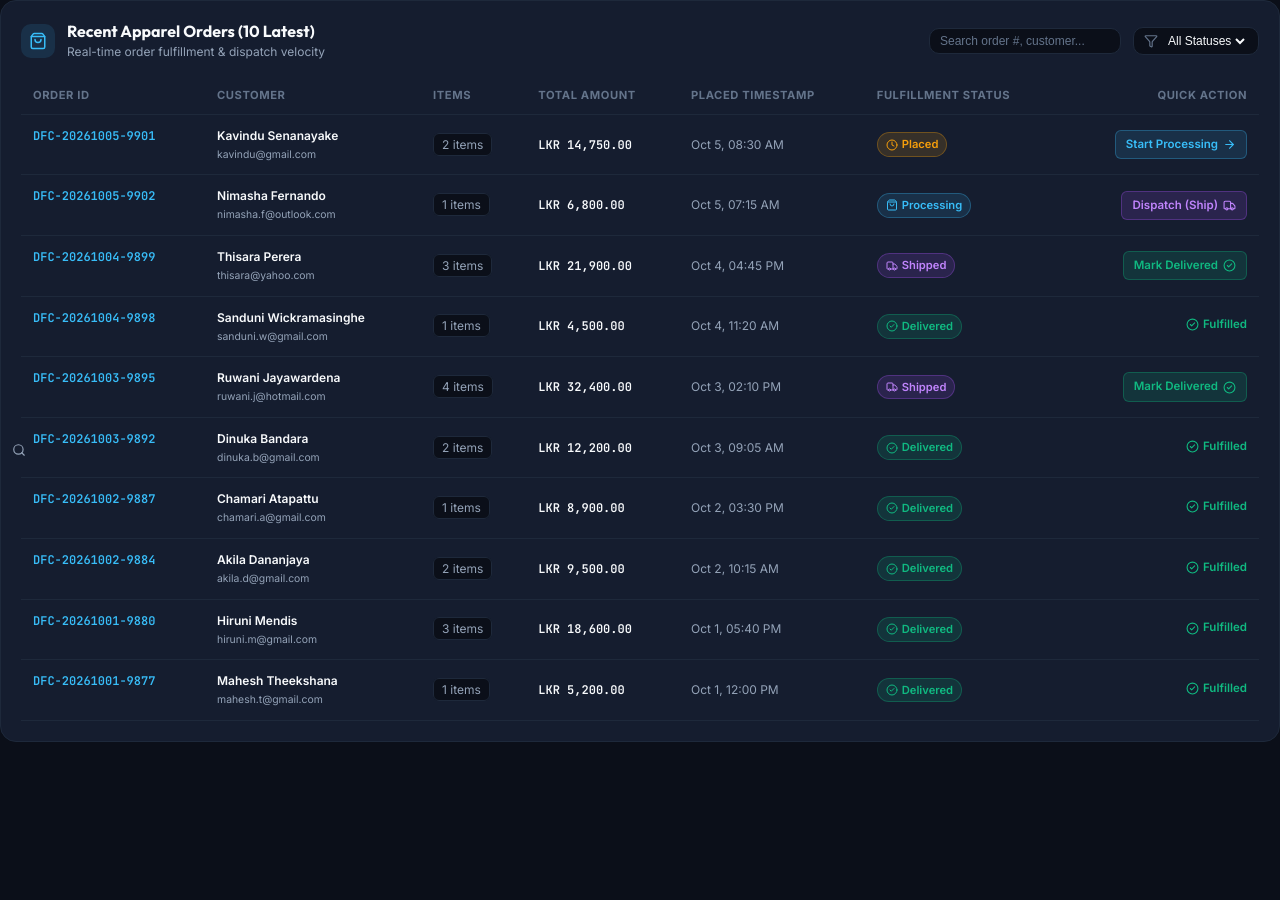
Test case: STORM-FE-017: Admin Role-Guarded Layout & Executive KPI Analytics Dashboard › AC4: RecentOrdersTable with Quick Fulfillment Status Actions › filters orders by search query keyword
The image size is (1280, 900).
Type "Thisara" into the field named "Search Orders".
click(1025, 41); type("Thisara")  # box 940,34 -> 1110,48
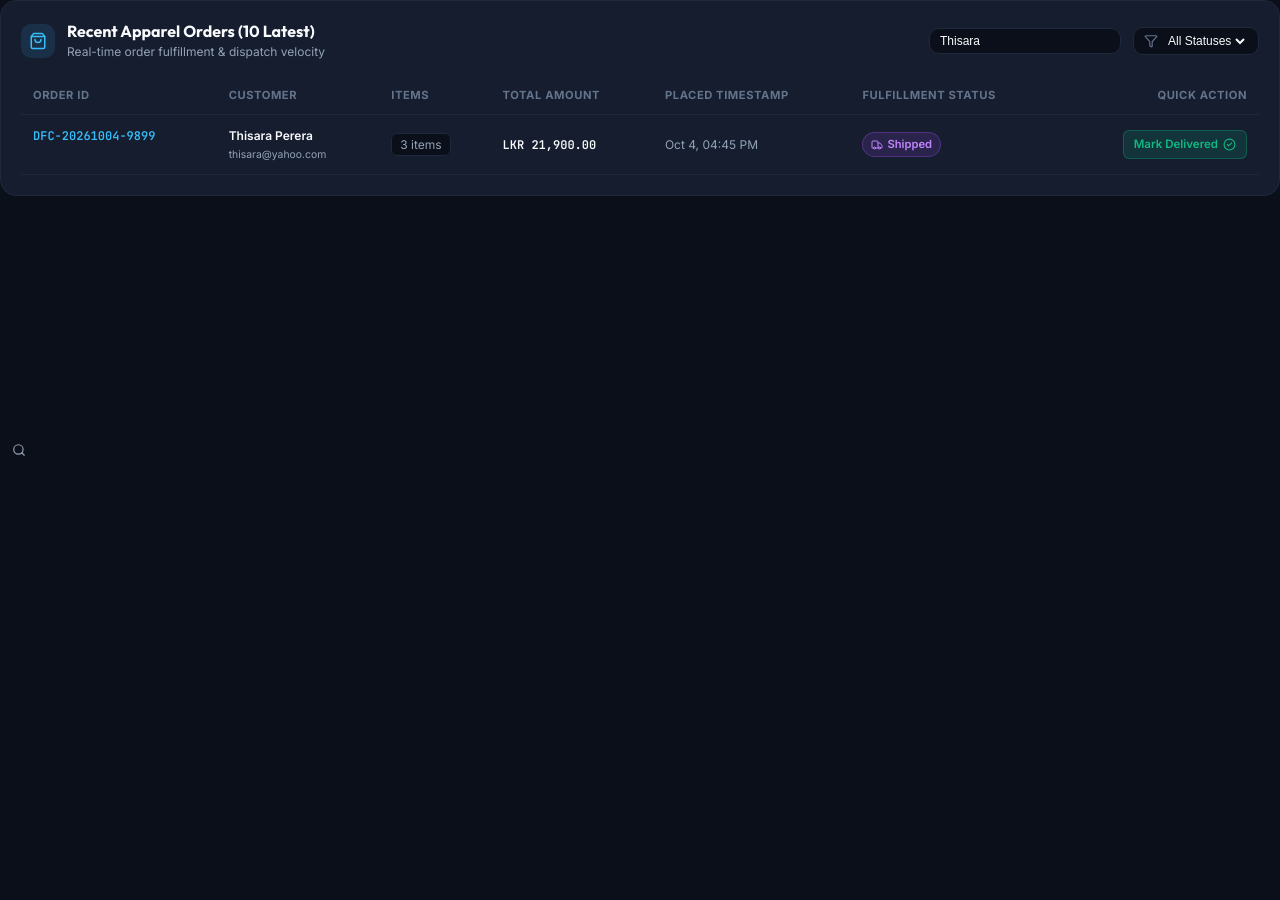
Expected: the text "Thisara Perera" is shown, 229,128 -> 313,143
Expected: the text "Kavindu Senanayake" is gone
